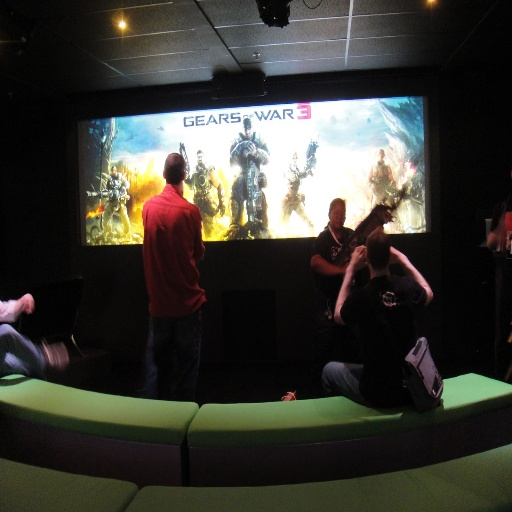hand: (350, 242, 367, 267), (17, 294, 33, 314), (388, 244, 398, 265), (216, 201, 225, 215), (244, 139, 255, 149), (243, 148, 255, 157), (388, 184, 395, 197), (370, 181, 377, 192), (342, 261, 348, 273), (304, 167, 312, 175)
